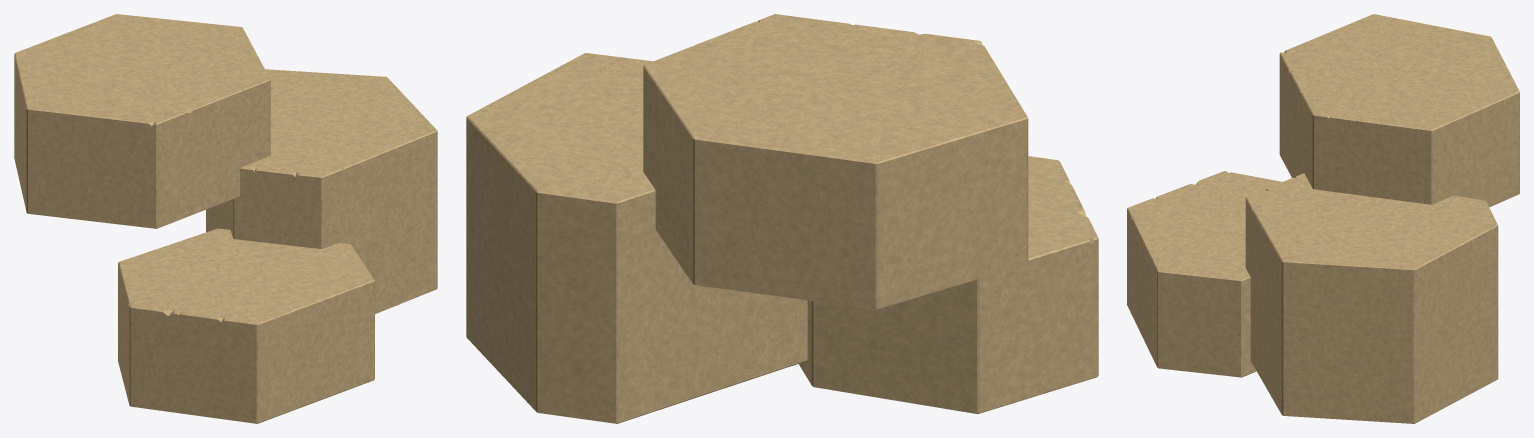
The model's file is OrirockConcentration_Finished.fbx.
The picture shows the model from 3 angles, left to right: view 1: azimuth 30°, elevation 25°; view 2: azimuth 150°, elevation 25°; view 3: azimuth 270°, elevation 25°; orthographic projection. The views are drawn at different scales.
Visible parts, largest first — view 1: 提纯源岩_左后_宽顶短壁, 提纯源岩_前方_宽扁断块, 提纯源岩_右后_斜切与下阶; view 2: 提纯源岩_左后_宽顶短壁, 提纯源岩_右后_斜切与下阶, 提纯源岩_前方_宽扁断块; view 3: 提纯源岩_右后_斜切与下阶, 提纯源岩_左后_宽顶短壁, 提纯源岩_前方_宽扁断块.
Part boxes in pixels (left/top/right/bottom): 提纯源岩_左后_宽顶短壁: left=14, top=14, right=270, bottom=228; 提纯源岩_前方_宽扁断块: left=118, top=228, right=374, bottom=423; 提纯源岩_右后_斜切与下阶: left=206, top=69, right=437, bottom=313; 提纯源岩_左后_宽顶短壁: left=643, top=14, right=1028, bottom=309; 提纯源岩_右后_斜切与下阶: left=466, top=53, right=807, bottom=423; 提纯源岩_前方_宽扁断块: left=799, top=156, right=1098, bottom=414; 提纯源岩_右后_斜切与下阶: left=1245, top=173, right=1498, bottom=423; 提纯源岩_左后_宽顶短壁: left=1279, top=14, right=1519, bottom=207; 提纯源岩_前方_宽扁断块: left=1127, top=171, right=1282, bottom=377.
Bounding box in the file's own units: 165 × 103 × 151.
